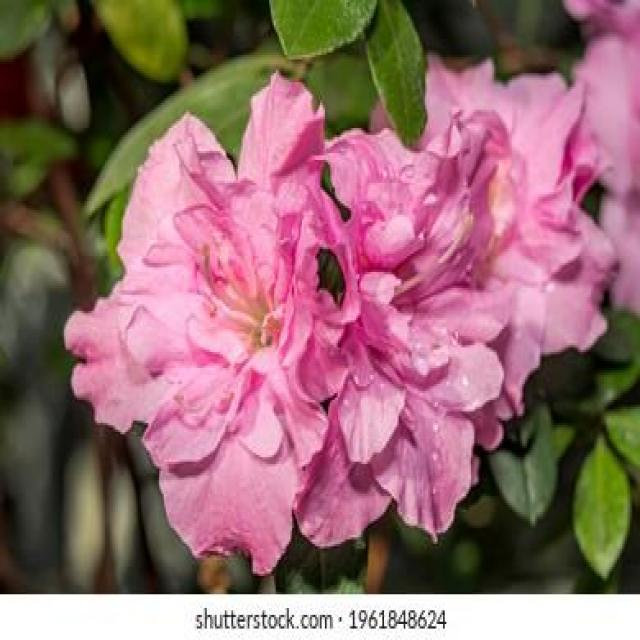organic waste: (74, 88, 394, 557), (282, 93, 530, 558)
